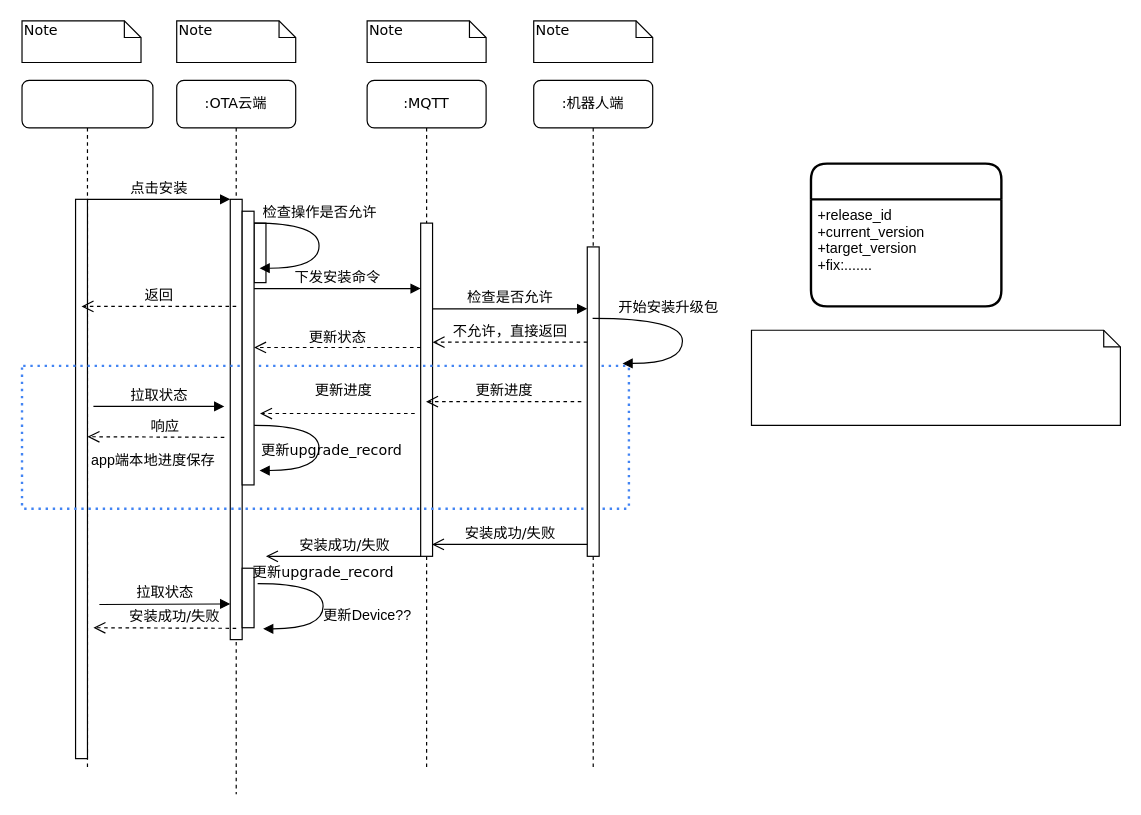
This 1141x815 diagram has some shape labels left out. Here are the shapes that lost their labels. From the top down, the box of each, then its label:
(809, 162, 1002, 307): InstallCommond
(750, 329, 1120, 425): 更新进度策略：一定窗口时间内(比如：2小时)，按照30秒或者重大进度通知云端；超过2小时，每10分钟/重大进度通知
(21, 79, 153, 771): :App端
(20, 364, 630, 509): Loop
